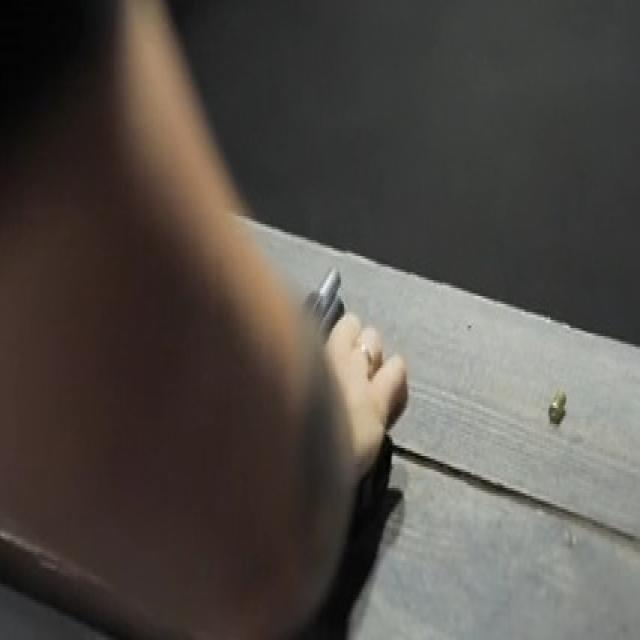Gun_Holder: (260, 258, 418, 541)
